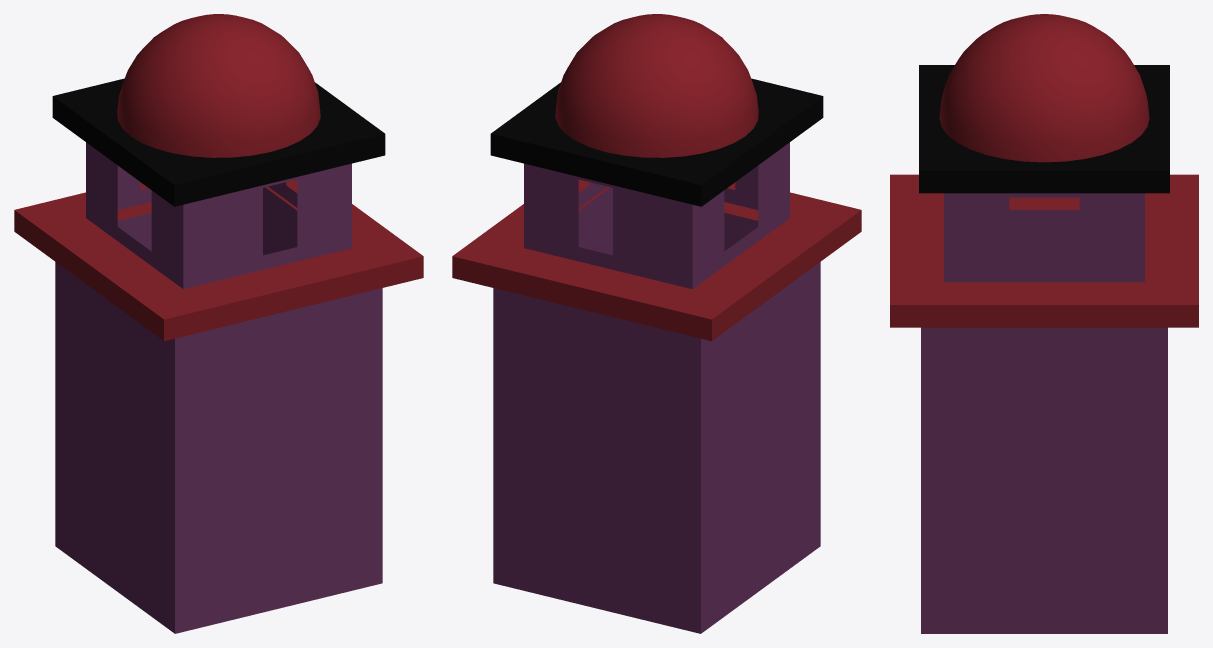
Rendered from Turret.fbx.
3 renders of one model, left to right at view 1: azimuth 30°, elevation 25°; view 2: azimuth 150°, elevation 25°; view 3: azimuth 270°, elevation 25°, orthographic. The views are drawn at different scales.
Visible parts, largest first — view 1: Cube.001; view 2: Cube.001; view 3: Cube.001.
Boxes of the visible parts, x1,y1,x2,y2 form: Cube.001: (14,14,423,633); Cube.001: (452,14,861,633); Cube.001: (890,14,1198,633).
Size of the model in its own units: 250 by 498 by 250.
